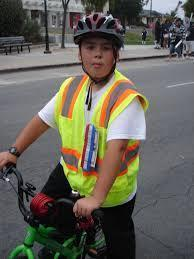Vest: (64, 76, 140, 203)
